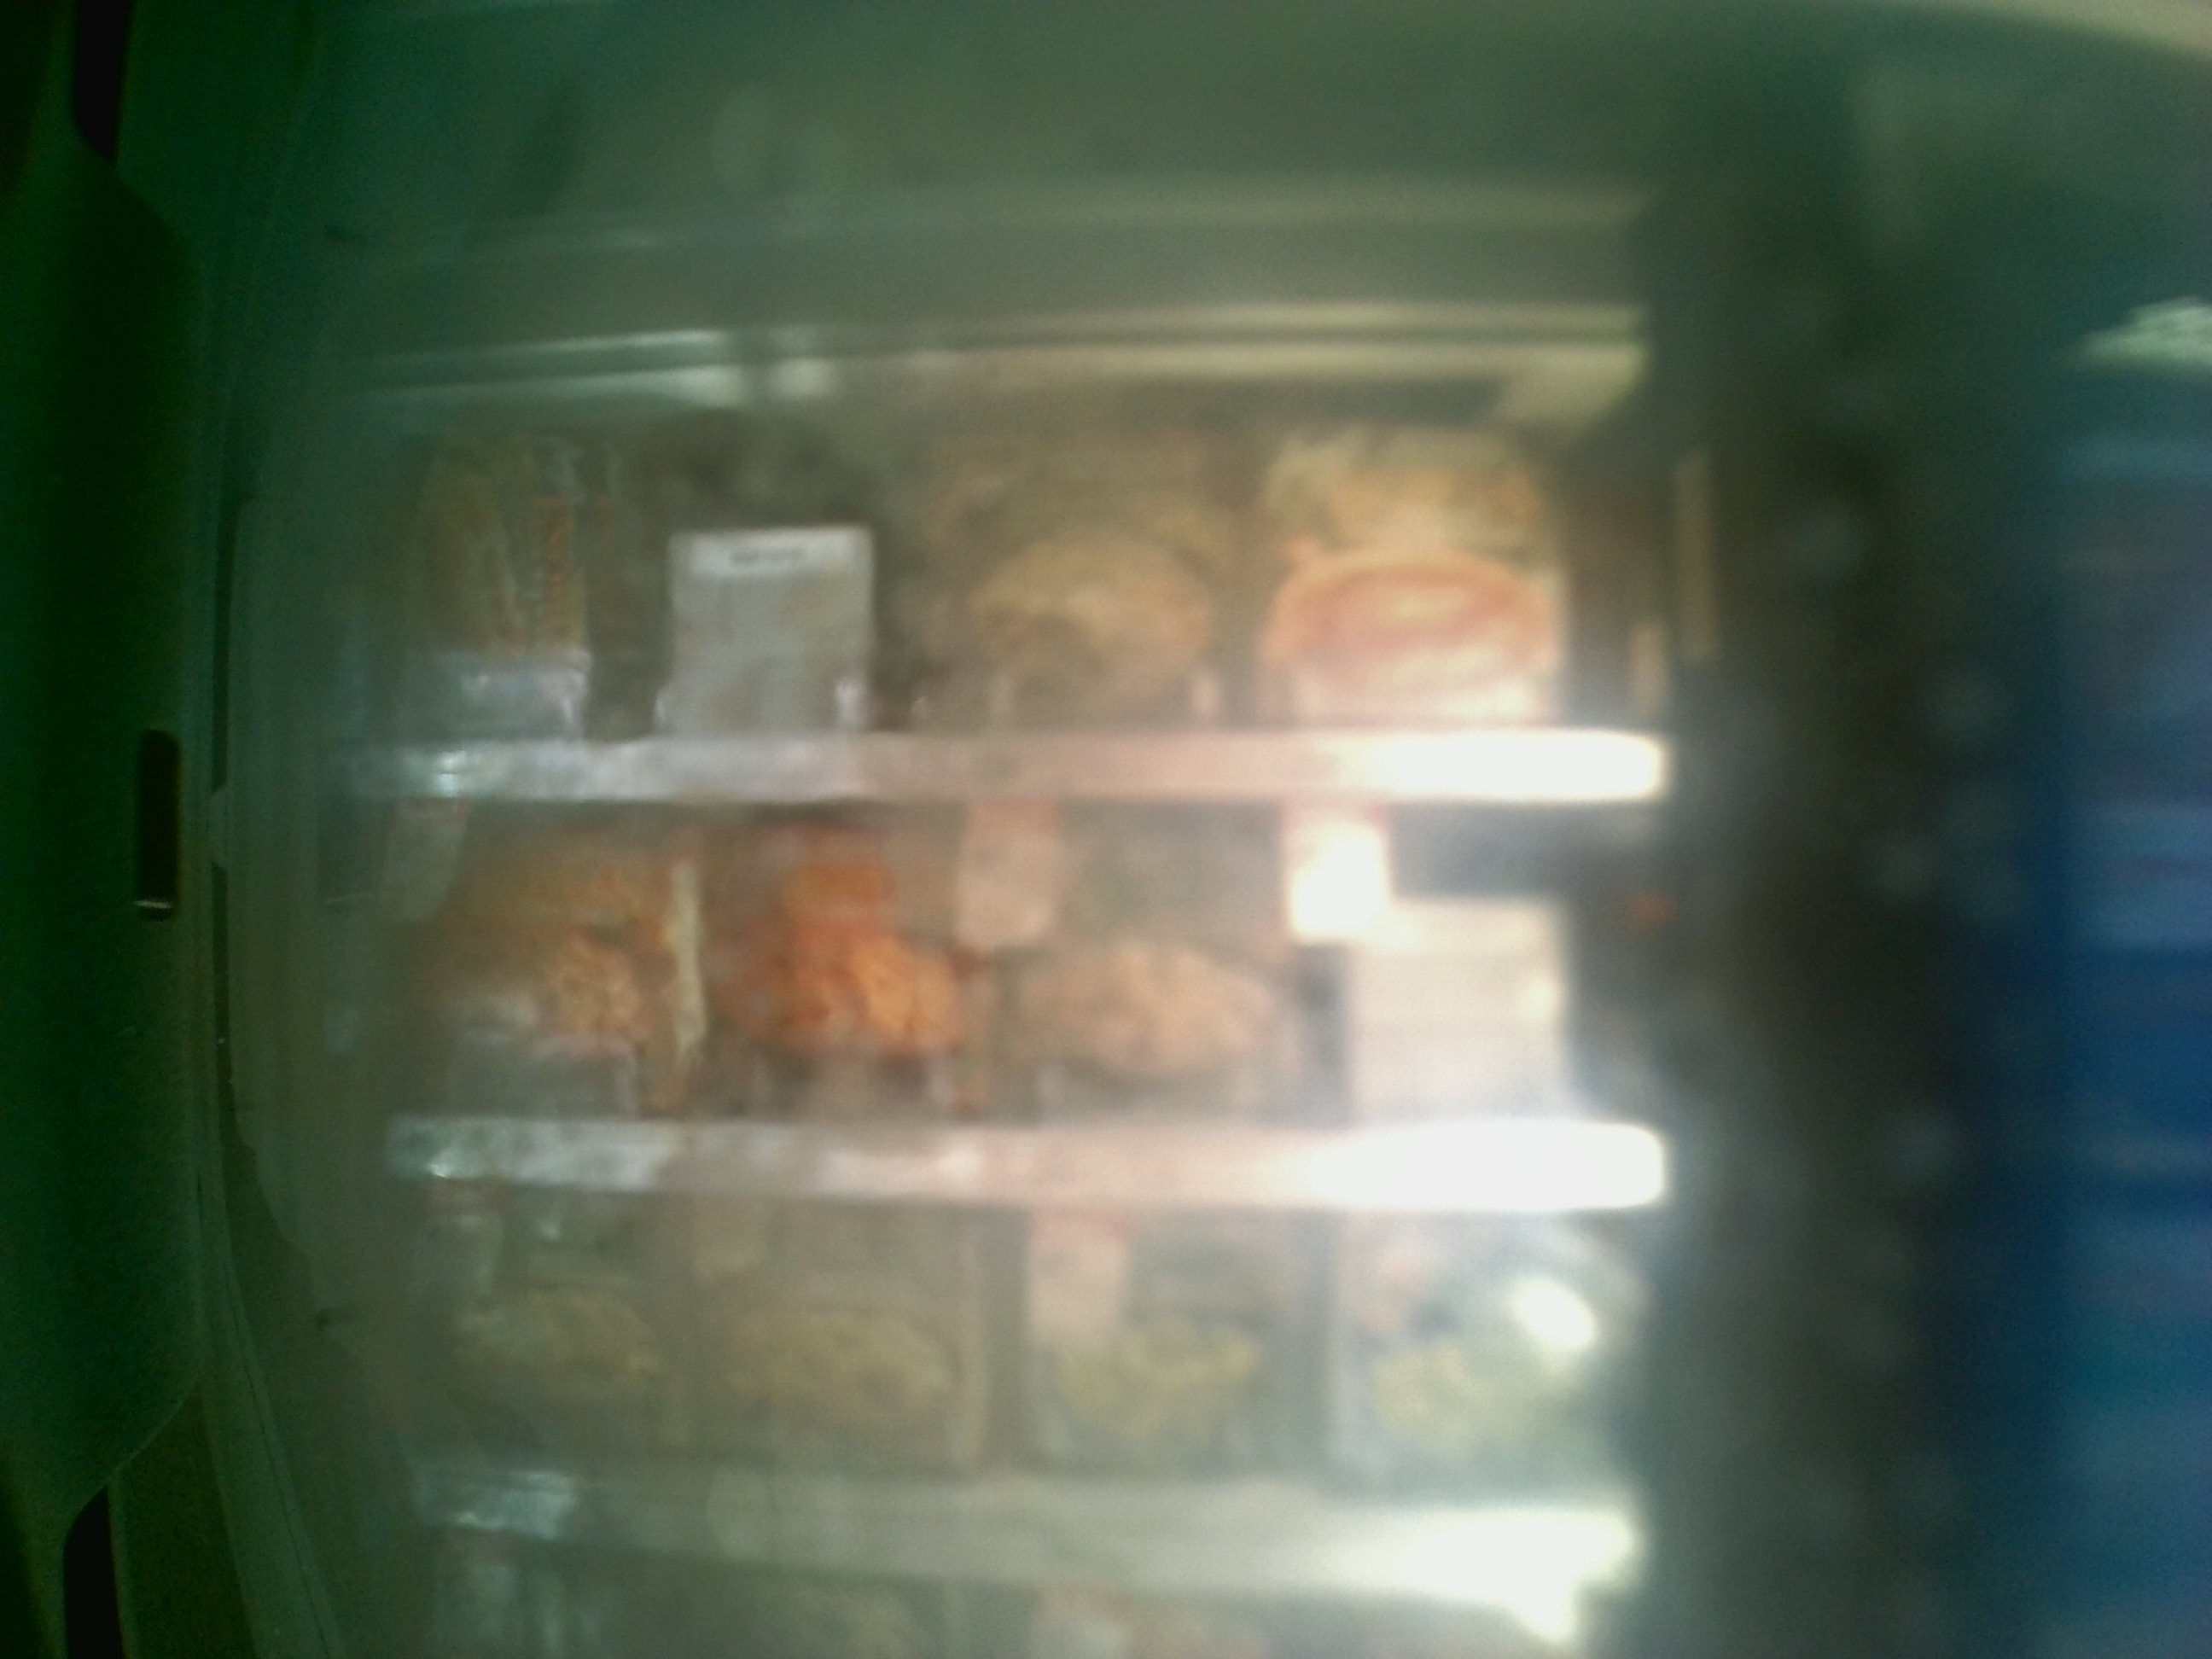frozen-food-shelf: (310, 802, 1669, 1215), (310, 392, 1672, 802), (307, 1218, 1679, 1607)
